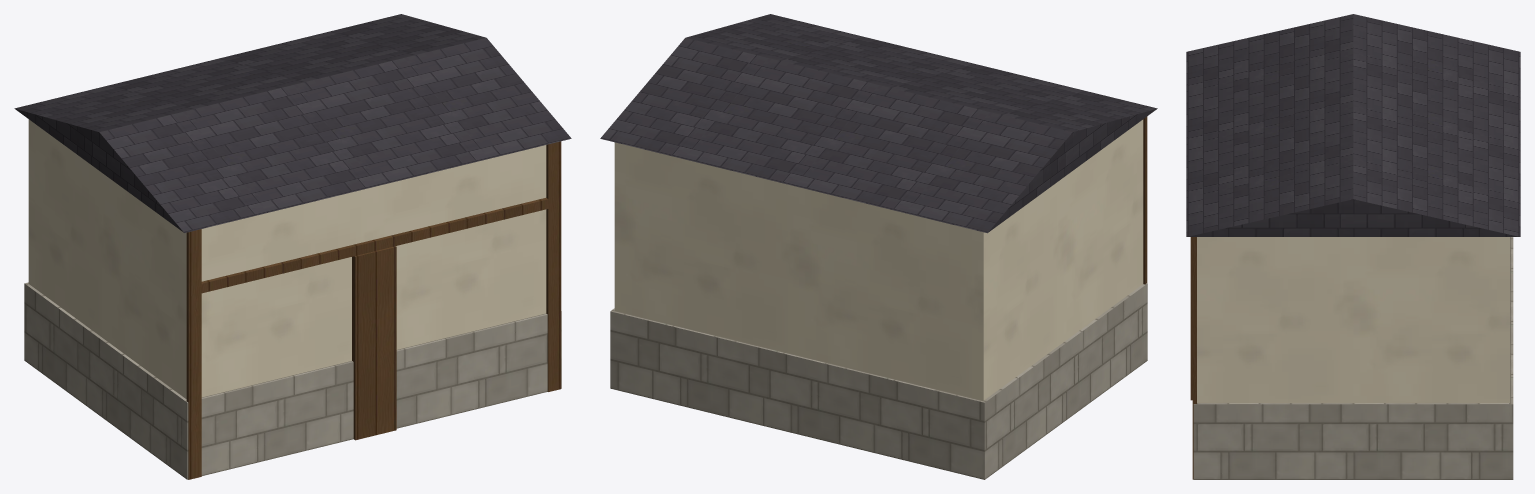
Rendered from wing.other.glb.
3 views of the same model, side by side, from view 1: azimuth 30°, elevation 25°; view 2: azimuth 150°, elevation 25°; view 3: azimuth 270°, elevation 25° (orthographic). The views are drawn at different scales.
Parts seen in each view (by area): view 1: castle.wing.other; view 2: castle.wing.other; view 3: castle.wing.other.
Part boxes in pixels (bbox=[...]): castle.wing.other: bbox=[14, 14, 571, 479]; castle.wing.other: bbox=[600, 14, 1157, 479]; castle.wing.other: bbox=[1186, 14, 1520, 479].
Bounding box in the file's own units: 4.2 × 3 × 3.2.
4 materials, 4 textured.
